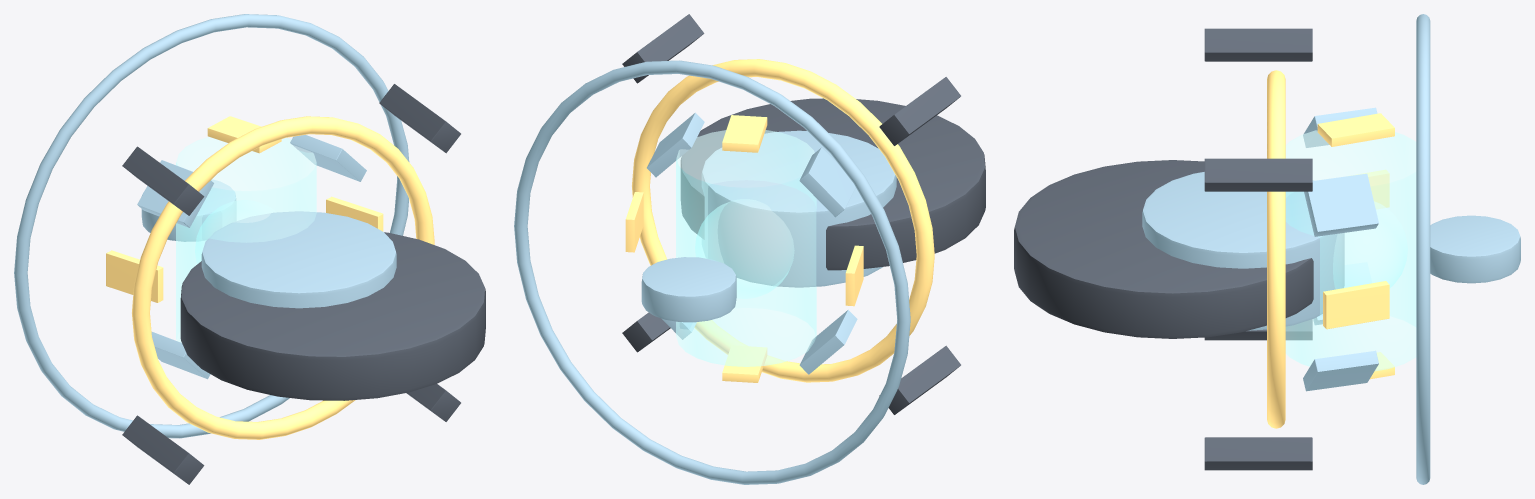
The model's file is broken_halo_reactor.glb.
The picture shows the model from 3 angles, left to right: view 1: azimuth 30°, elevation 25°; view 2: azimuth 150°, elevation 25°; view 3: azimuth 270°, elevation 25°; orthographic projection. The views are drawn at different scales.
Parts seen in each view (by area): view 1: ReactorBase, ReactorPedestal, ReactorRingLower, ReactorRingUpper, ReactorChamberShell, ReactorCap, ReactorPylon_45, ReactorPylon_135, ReactorPylon_225, ReactorArm_45, ReactorCoreOrb, ReactorVane_180 (+5 smaller); view 2: ReactorChamberShell, ReactorPedestal, ReactorRingUpper, ReactorBase, ReactorRingLower, ReactorCoreOrb, ReactorCap, ReactorPylon_135, ReactorArm_135, ReactorPylon_225, ReactorPylon_45, ReactorArm_45 (+6 smaller); view 3: ReactorBase, ReactorChamberShell, ReactorPedestal, ReactorRingUpper, ReactorRingLower, ReactorCap, ReactorCoreOrb, ReactorPylon_45, ReactorPylon_135, ReactorPylon_315, ReactorArm_45, ReactorVane_0 (+6 smaller).
Part boxes in pixels (x1=…): ReactorBase: x1=180, y1=232, x2=485, y2=400; ReactorPedestal: x1=201, y1=211, x2=396, y2=308; ReactorRingLower: x1=132, y1=116, x2=434, y2=439; ReactorRingUpper: x1=14, y1=14, x2=409, y2=438; ReactorChamberShell: x1=176, y1=137, x2=316, y2=342; ReactorCap: x1=141, y1=179, x2=235, y2=241; ReactorPylon_45: x1=379, y1=84, x2=460, y2=153; ReactorPylon_135: x1=122, y1=146, x2=204, y2=215; ReactorPylon_225: x1=122, y1=415, x2=204, y2=484; ReactorArm_45: x1=290, y1=135, x2=366, y2=181; ReactorCoreOrb: x1=195, y1=200, x2=276, y2=263; ReactorVane_180: x1=106, y1=250, x2=163, y2=302; ReactorChamberShell: x1=676, y1=130, x2=816, y2=366; ReactorPedestal: x1=702, y1=130, x2=896, y2=287; ReactorRingUpper: x1=514, y1=60, x2=910, y2=484; ReactorBase: x1=681, y1=98, x2=985, y2=270; ReactorRingLower: x1=632, y1=59, x2=934, y2=382; ReactorCoreOrb: x1=695, y1=199, x2=794, y2=298; ReactorCap: x1=641, y1=257, x2=736, y2=322; ReactorPylon_135: x1=879, y1=77, x2=960, y2=145; ReactorArm_135: x1=799, y1=147, x2=855, y2=217; ReactorPylon_225: x1=879, y1=345, x2=960, y2=414; ReactorPylon_45: x1=622, y1=14, x2=704, y2=83; ReactorArm_45: x1=647, y1=112, x2=704, y2=177; ReactorBase: x1=1014, y1=160, x2=1313, y2=338; ReactorChamberShell: x1=1285, y1=130, x2=1416, y2=371; ReactorPedestal: x1=1142, y1=172, x2=1344, y2=330; ReactorRingUpper: x1=1416, y1=14, x2=1430, y2=484; ReactorRingLower: x1=1267, y1=70, x2=1285, y2=428; ReactorCap: x1=1430, y1=215, x2=1520, y2=283; ReactorCoreOrb: x1=1333, y1=201, x2=1407, y2=288; ReactorPylon_45: x1=1204, y1=158, x2=1312, y2=191; ReactorPylon_135: x1=1204, y1=28, x2=1312, y2=61; ReactorPylon_315: x1=1204, y1=437, x2=1312, y2=470; ReactorArm_45: x1=1304, y1=173, x2=1378, y2=236; ReactorVane_0: x1=1323, y1=281, x2=1389, y2=329.
Bounding box in the file's own units: 4.02 × 4.02 × 4.31.
